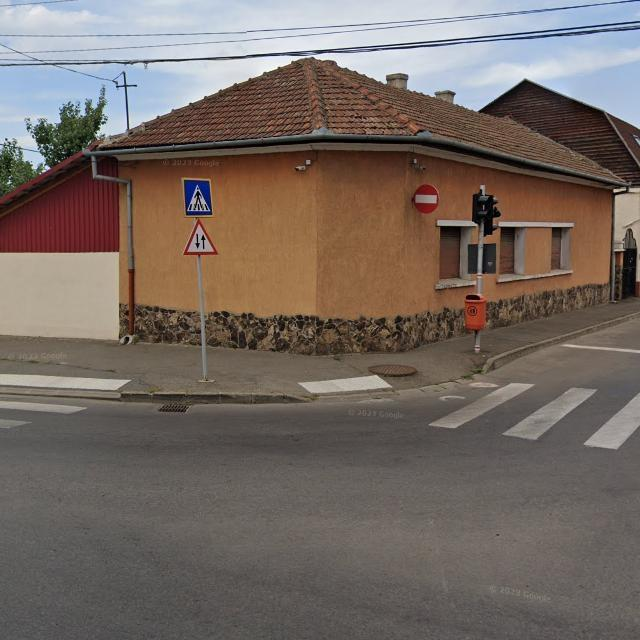info_crosswalk: (182, 178, 214, 217)
